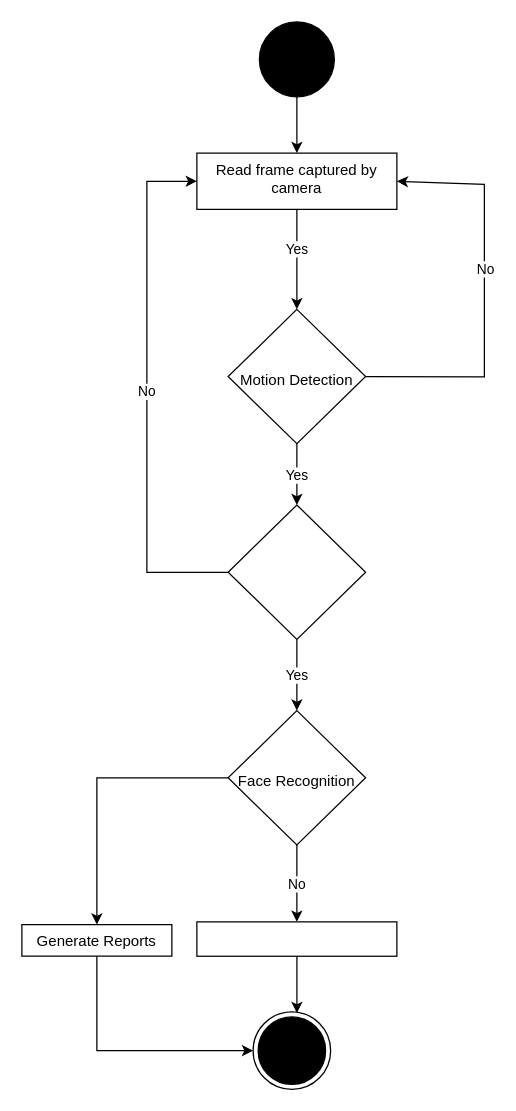
The diagram is 516 pixels wide and 1111 high, and some of its shapes have lost their labels. Each missing label, with the centre of its shape:
Do nothing: the point at 296,938
Face Detection: the point at 296,571
